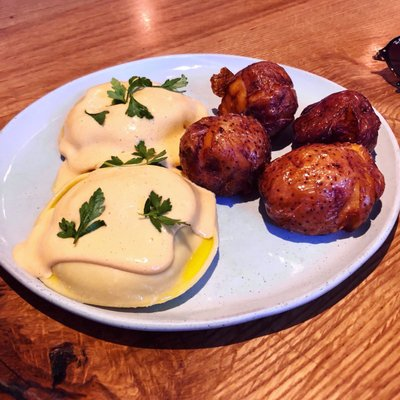curry: (1, 27, 399, 400)
salad: (260, 142, 382, 236)
